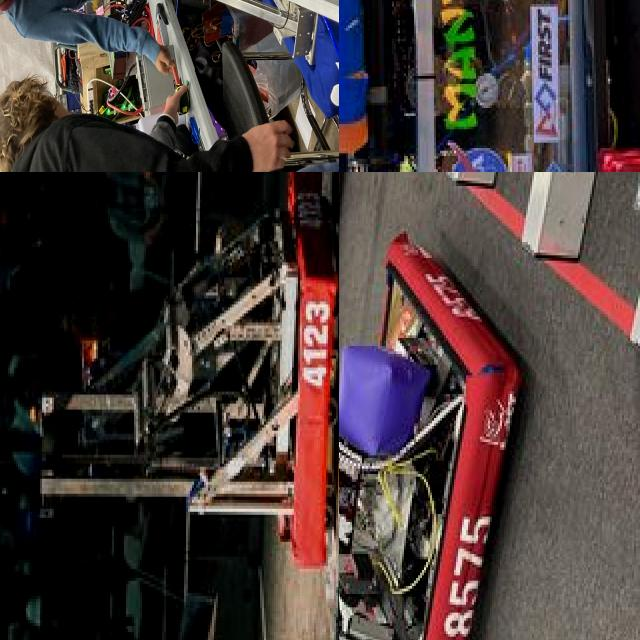FRC-Robots: (0, 172, 339, 613), (339, 233, 520, 640), (339, 0, 640, 172), (0, 0, 339, 61)
